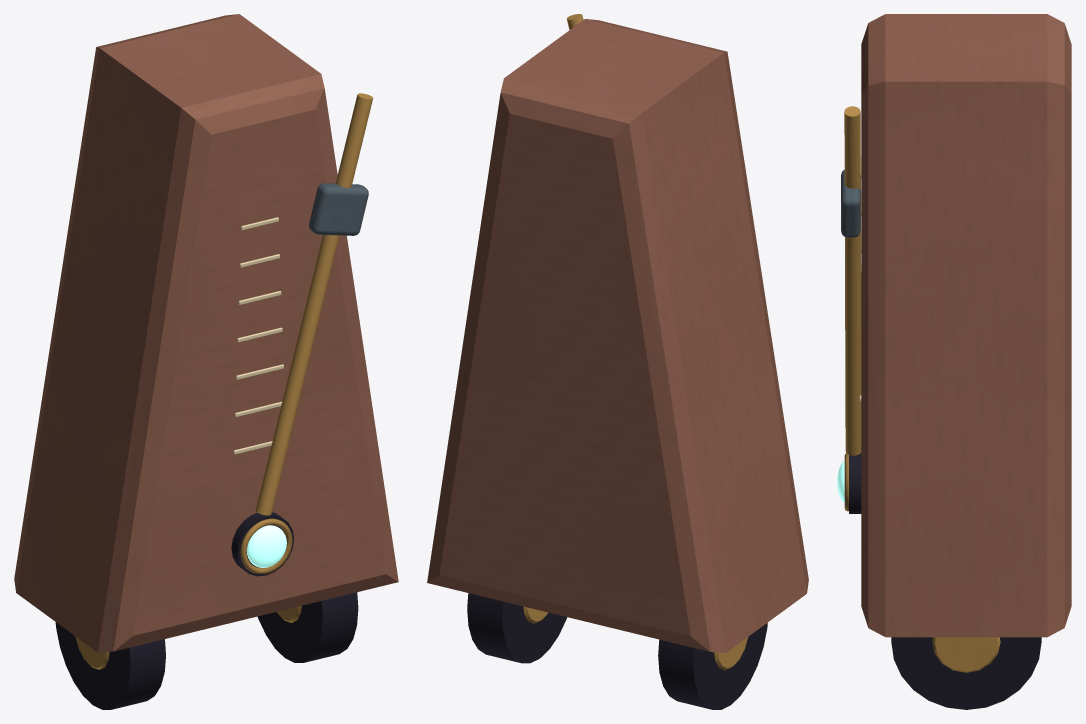
File: tempo.glb
3 renders of one model, left to right at view 1: azimuth 30°, elevation 25°; view 2: azimuth 150°, elevation 25°; view 3: azimuth 270°, elevation 25°, orthographic.
Parts seen in each view (by area): view 1: Metronome case, Rubber wheel (×2), Pendulum, Sliding weight, Optical glass, Lens bezel, Barrel; view 2: Metronome case, Rubber wheel (×2); view 3: Metronome case, Rubber wheel, Pendulum, Wheel hub, Sliding weight, Barrel.
Part boxes in pixels (left/top/right/bottom): Metronome case: left=14, top=14, right=398, bottom=652; Rubber wheel (×2): left=55, top=592, right=358, bottom=709; Pendulum: left=255, top=93, right=373, bottom=515; Sliding weight: left=309, top=183, right=368, bottom=235; Optical glass: left=246, top=525, right=286, bottom=567; Lens bezel: left=240, top=518, right=292, bottom=573; Barrel: left=231, top=512, right=293, bottom=576; Metronome case: left=427, top=19, right=808, bottom=653; Rubber wheel (×2): left=467, top=593, right=767, bottom=709; Metronome case: left=861, top=14, right=1071, bottom=637; Rubber wheel: left=891, top=637, right=1041, bottom=709; Pendulum: left=844, top=106, right=861, bottom=455; Wheel hub: left=932, top=637, right=1000, bottom=672; Sliding weight: left=841, top=169, right=860, bottom=237; Barrel: left=849, top=452, right=861, bottom=513.
Size of the model in its own units: 0.5905 by 1.16 by 0.4054.
9 materials, 8 textured.
